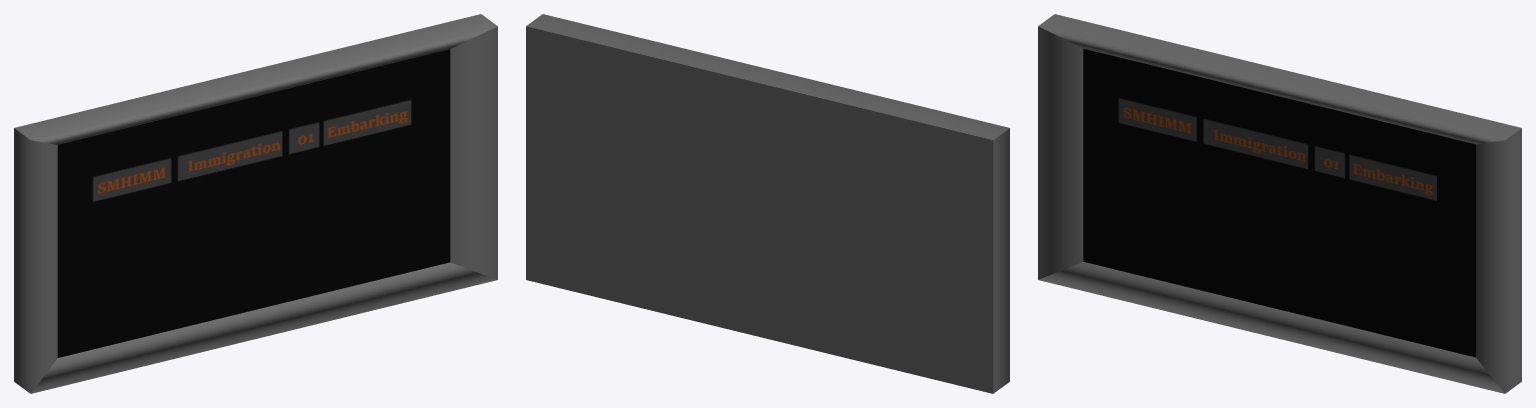
The model's file is SM_Hub_TV_01.fbx.
3 renders of one model, left to right at view 1: azimuth 30°, elevation 25°; view 2: azimuth 150°, elevation 25°; view 3: azimuth 330°, elevation 25°, orthographic.
Parts seen in each view (by area): view 1: SM_Hub_TV_01; view 2: SM_Hub_TV_01; view 3: SM_Hub_TV_01.
Boxes of the visible parts, x1,y1,x2,y2 form: SM_Hub_TV_01: (14,14,497,393); SM_Hub_TV_01: (526,14,1009,393); SM_Hub_TV_01: (1038,14,1521,393).
Size of the model in its own units: 25.63 by 13.3 by 1.59.
